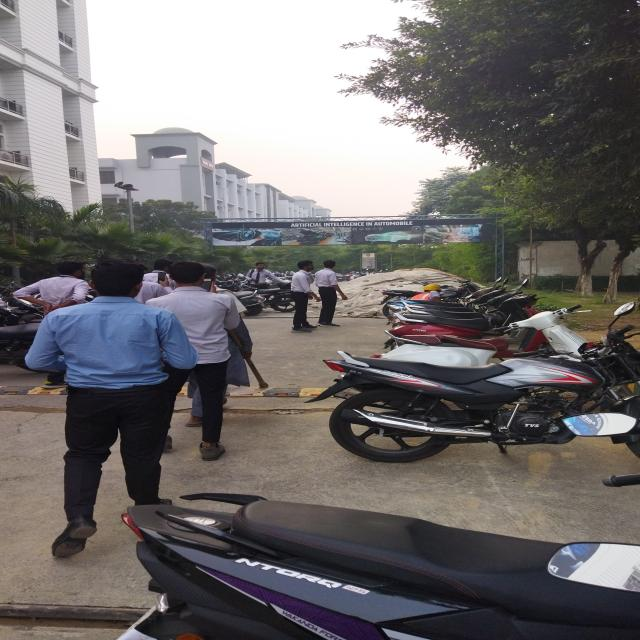unsafe: (33, 256, 186, 558), (154, 260, 233, 461), (287, 257, 317, 335), (317, 257, 349, 329), (245, 259, 279, 288)
